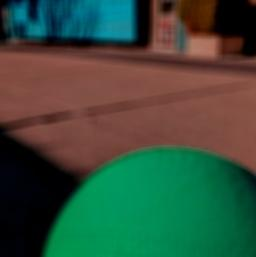algae: (35, 139, 256, 257)
